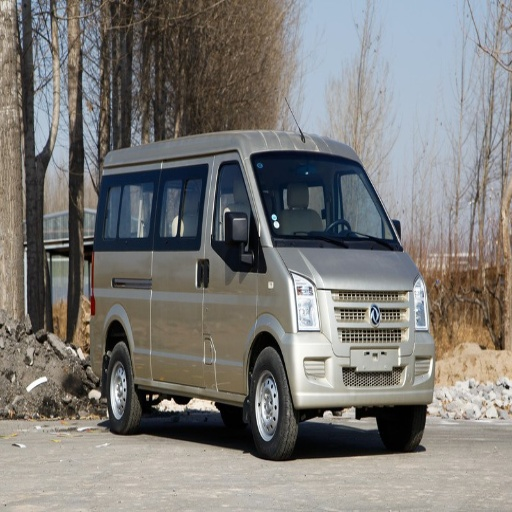back_right_door: (139, 157, 214, 279)
front_bumper: (290, 290, 434, 405)
front_glass: (252, 152, 401, 249)
front_right_door: (174, 154, 261, 390)
front_right_light: (294, 278, 320, 331)
trunk: (85, 258, 145, 355)
